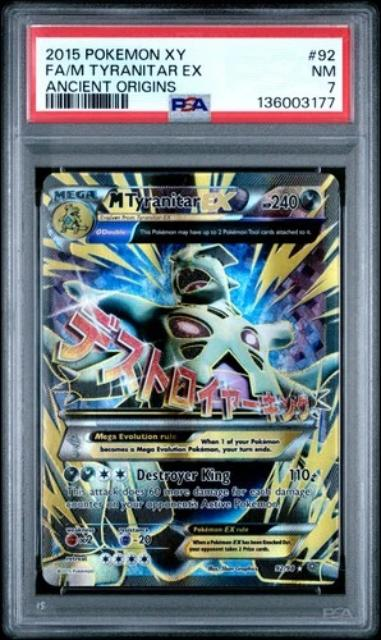Card: (37, 166, 344, 591)
Name: (102, 184, 248, 214)
